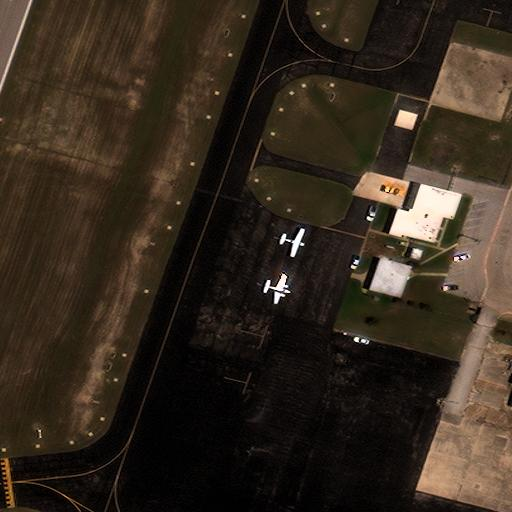Small Civil Transport: (263, 275, 290, 303), (279, 229, 305, 257)
